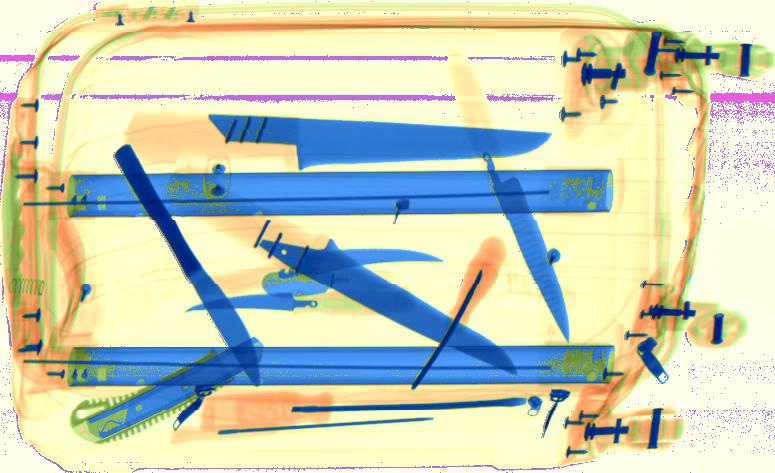Knife: (247, 218, 518, 374), (111, 142, 261, 387), (450, 52, 572, 342), (137, 110, 553, 170), (268, 243, 445, 280), (183, 290, 342, 314), (261, 270, 339, 299)
